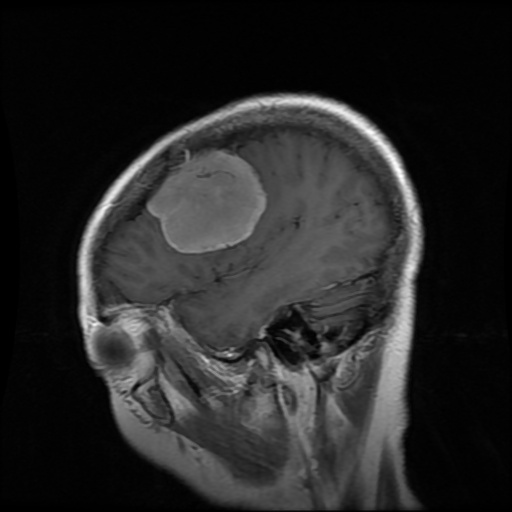meningioma: (146, 148, 267, 253)
